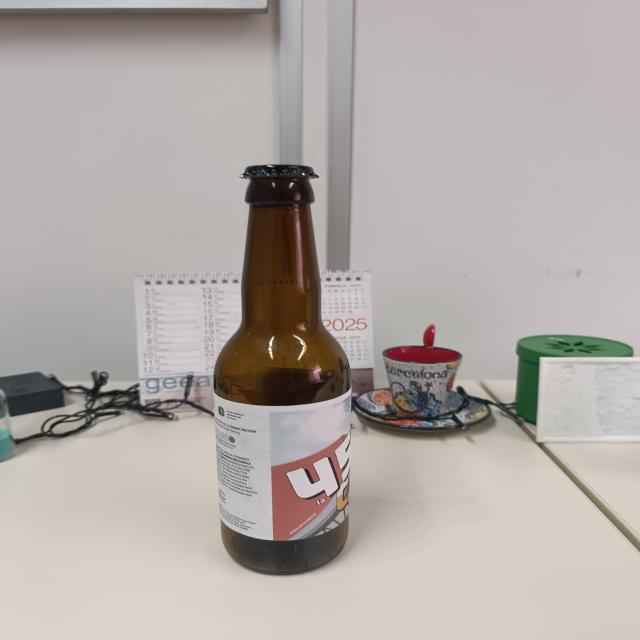Bottle: (210, 162, 353, 577)
Cap: (231, 161, 328, 181)
Label: (209, 393, 354, 542)
